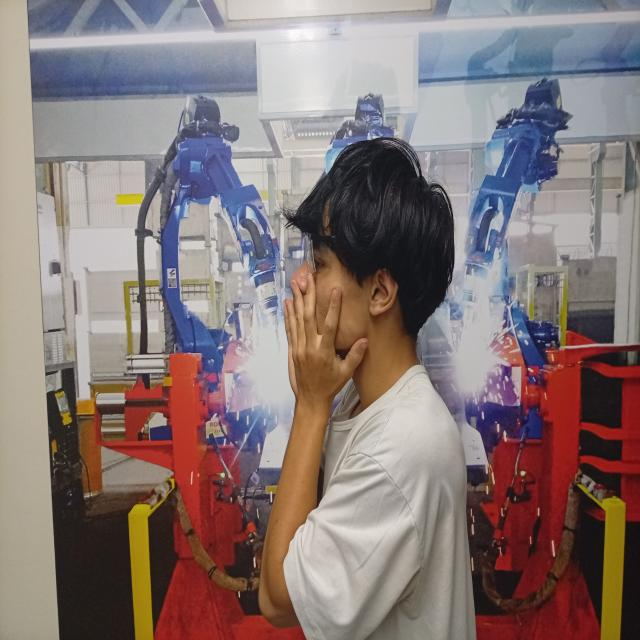oculos-epi: (301, 232, 339, 278)
